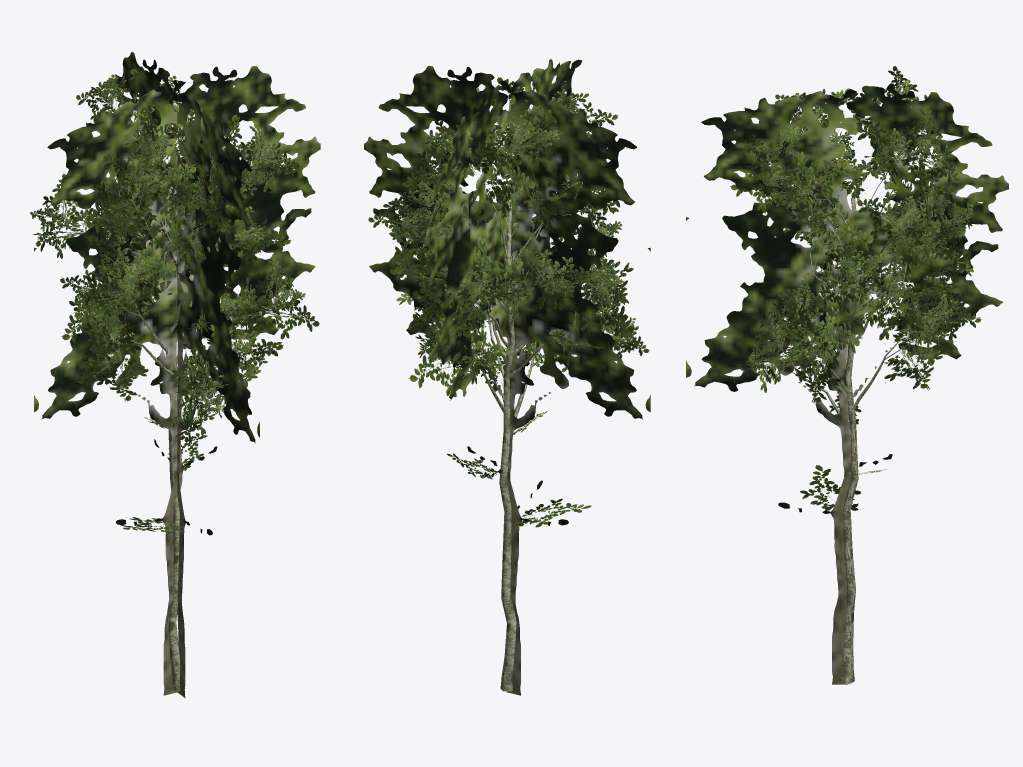
File: Tree-Beech0A.fbx
3 views of the same model, side by side, from view 1: azimuth 30°, elevation 25°; view 2: azimuth 150°, elevation 25°; view 3: azimuth 270°, elevation 25° (orthographic). The views are drawn at different scales.
Parts seen in each view (by area): view 1: Billboard-BeechA, Tree-Beech0A_LOD0; view 2: Billboard-BeechA, Tree-Beech0A_LOD0; view 3: Billboard-BeechA, Tree-Beech0A_LOD0.
Boxes of the visible parts, box(x1,y1,x2,y2) form: Billboard-BeechA: box(34, 52, 320, 697); Tree-Beech0A_LOD0: box(30, 69, 319, 691); Billboard-BeechA: box(364, 59, 650, 695); Tree-Beech0A_LOD0: box(368, 77, 649, 691); Billboard-BeechA: box(686, 84, 1008, 684); Tree-Beech0A_LOD0: box(730, 66, 981, 683).
Size of what is drawn, in the model's own units: 1286 by 2649 by 1286.
